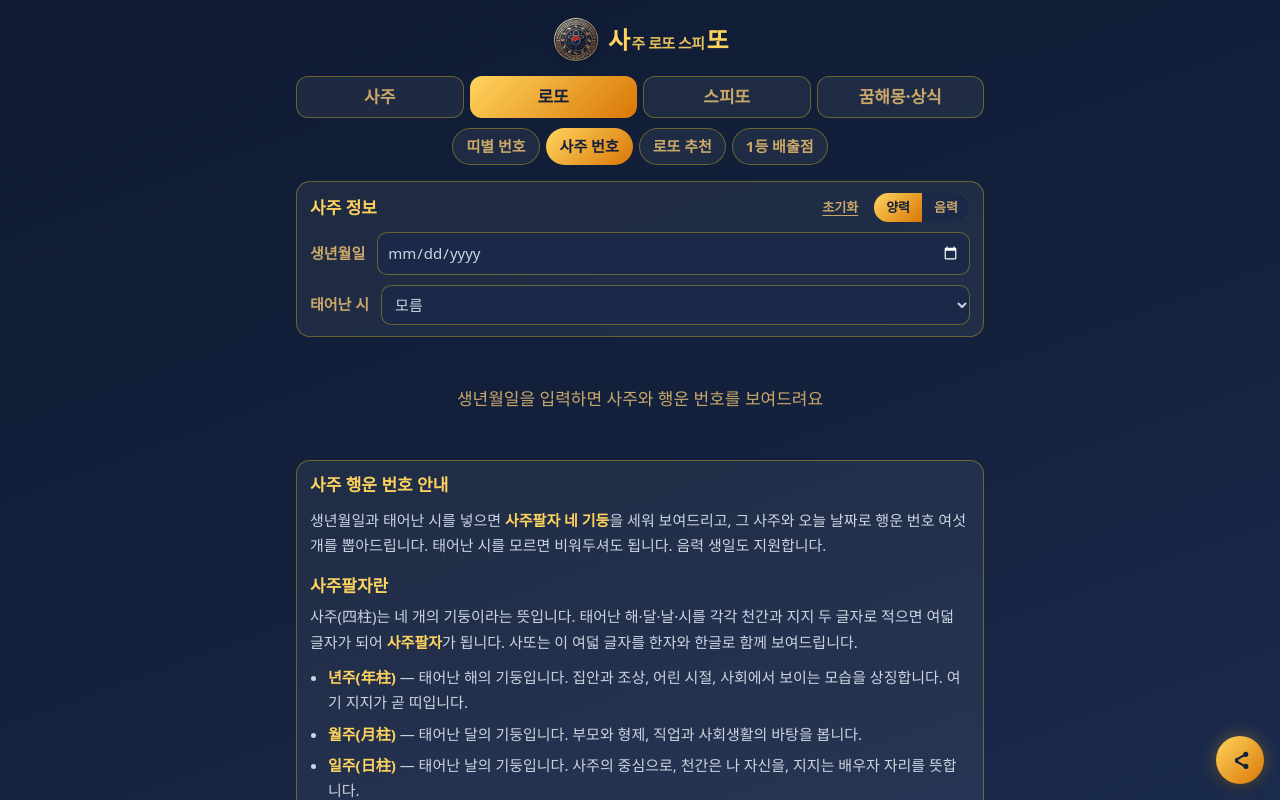
Test: 스피또 대메뉴는 하위 탭 없이 바로 당첨 지역 표시
Click the link "스피또".
click(727, 97)  # box [643, 76, 810, 118]
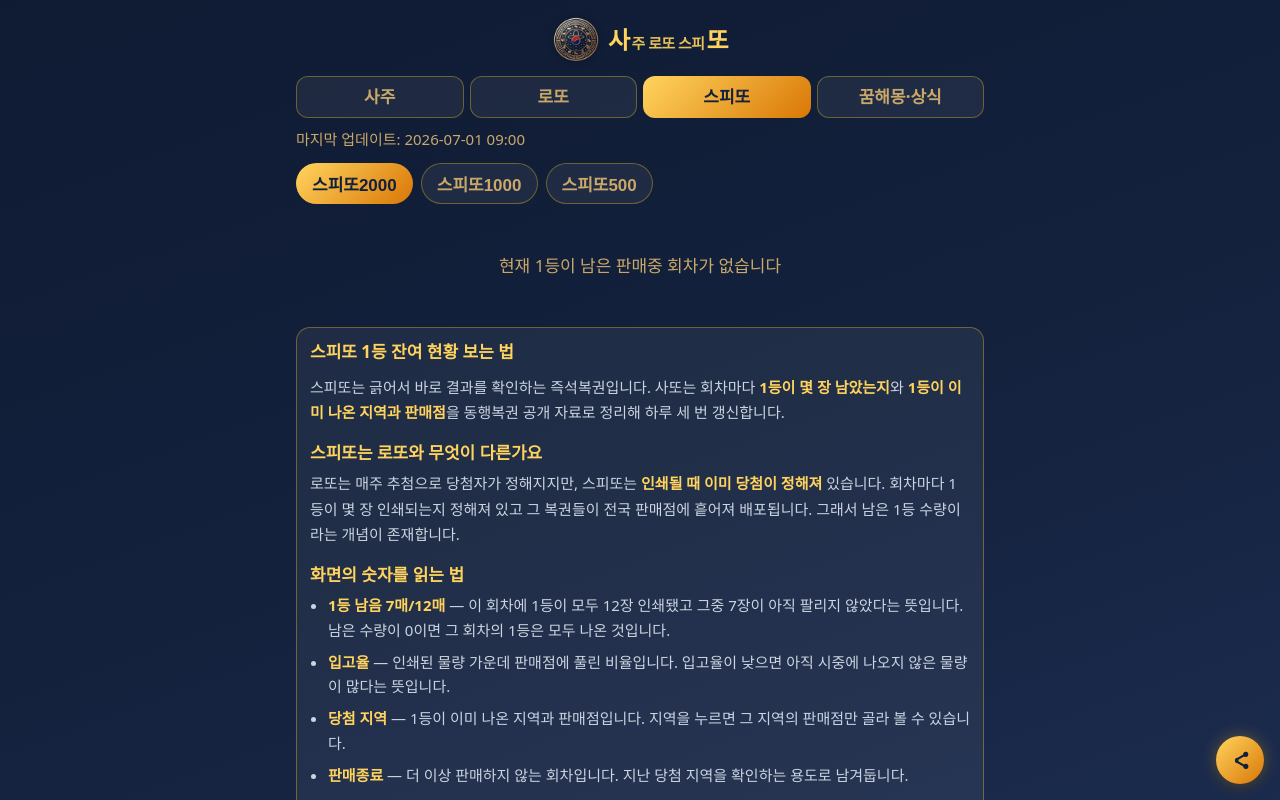
Result: no links with class "sub-tab" are shown
Result: the text "마지막 업데이트: 2026-07-01 09:00" is shown at [296, 129, 525, 149]
